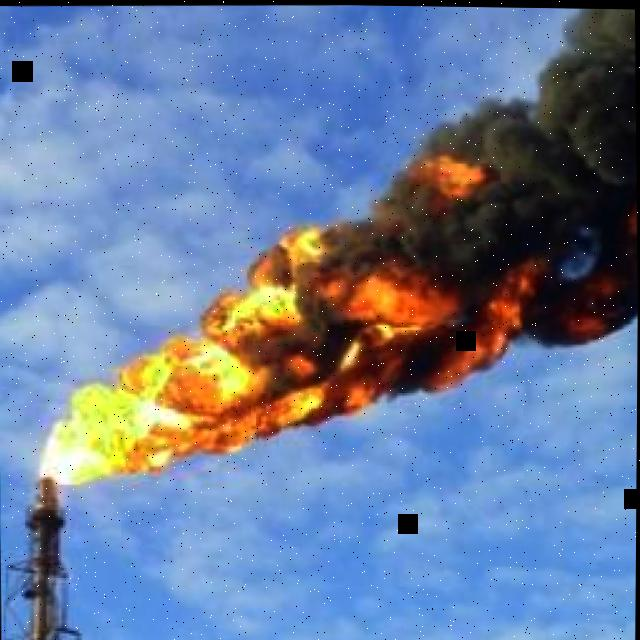fire: (38, 224, 450, 489), (432, 261, 547, 390), (416, 153, 481, 202)
smoke: (242, 7, 638, 397)
